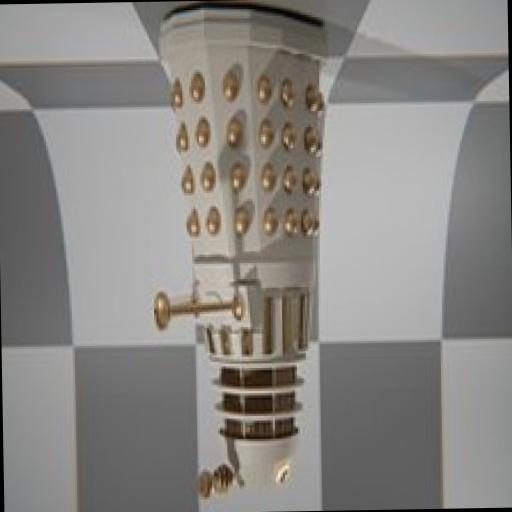dalek: (145, 0, 344, 499)
